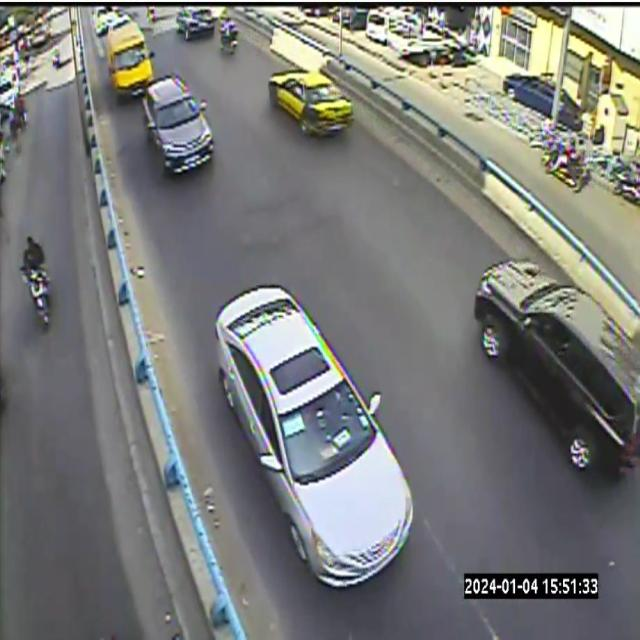car: (216, 285, 413, 586), (474, 259, 639, 474), (143, 76, 214, 172), (269, 71, 353, 134), (106, 21, 154, 99), (177, 6, 217, 40)
